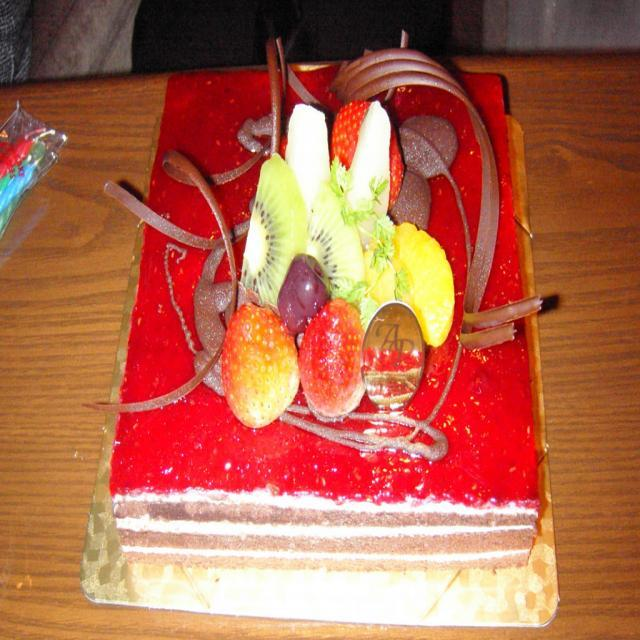Strawberry: (222, 302, 300, 426), (329, 100, 405, 212), (303, 293, 365, 385)
